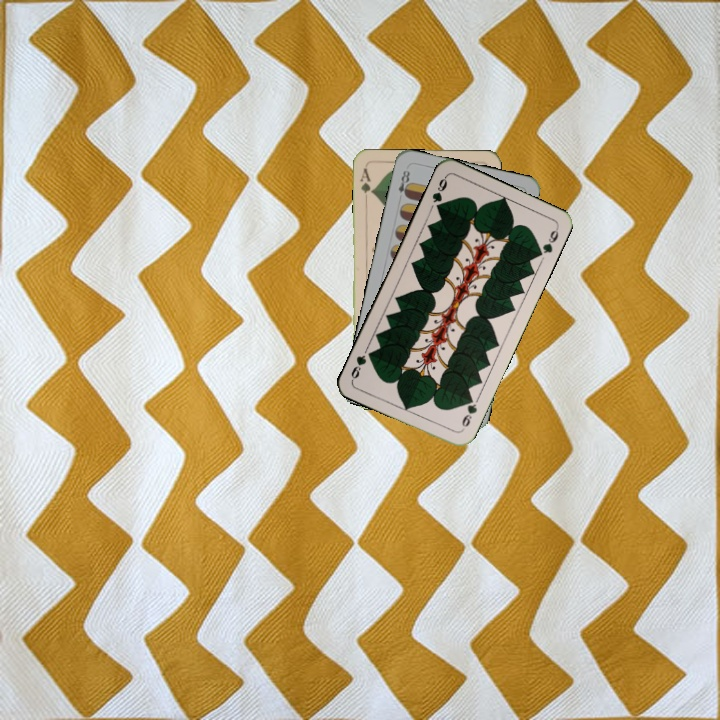E8: (394, 166, 413, 200)
G9: (458, 392, 481, 433), (428, 172, 450, 213)
GA: (356, 164, 375, 204)
